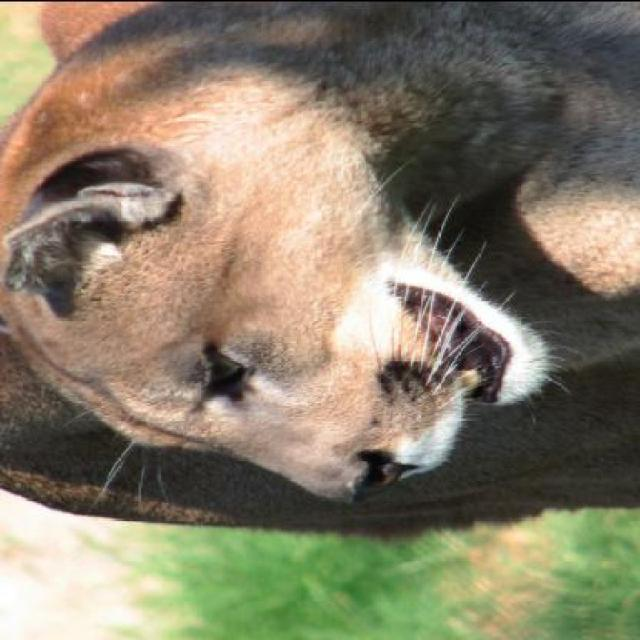Lion: (0, 1, 638, 575)
